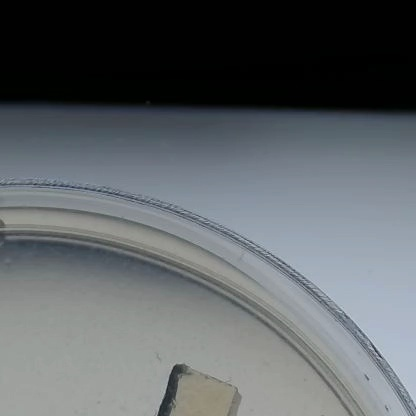worm: (146, 350, 167, 373), (146, 408, 156, 416)
